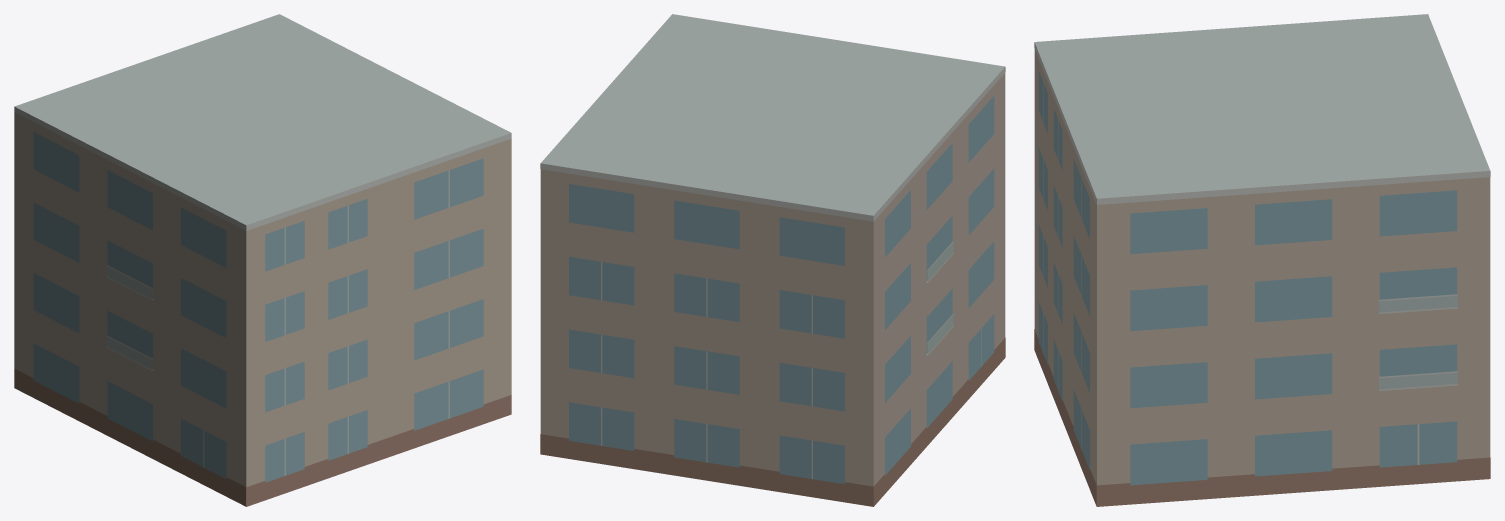
File: residential-27eef919-8817-4eb5-9d67-c3bf08fea3a5.glb
3 views of the same model, side by side, from view 1: azimuth 30°, elevation 25°; view 2: azimuth 150°, elevation 25°; view 3: azimuth 270°, elevation 25° (orthographic). The views are drawn at different scales.
Parts seen in each view (by area): view 1: residential-27eef919-8817-4eb5-9d67-c3bf08fea3a5.tmp; view 2: residential-27eef919-8817-4eb5-9d67-c3bf08fea3a5.tmp; view 3: residential-27eef919-8817-4eb5-9d67-c3bf08fea3a5.tmp.
Part boxes in pixels (x1,y1,x2,y2): residential-27eef919-8817-4eb5-9d67-c3bf08fea3a5.tmp: [14, 14, 511, 506]; residential-27eef919-8817-4eb5-9d67-c3bf08fea3a5.tmp: [540, 14, 1005, 506]; residential-27eef919-8817-4eb5-9d67-c3bf08fea3a5.tmp: [1034, 14, 1490, 506].
Size of the model in its own units: 15.7 by 12.2 by 16.38.
